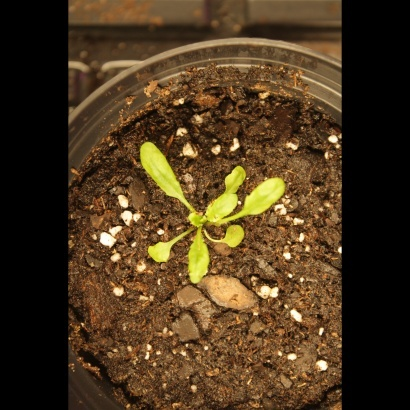leaf: (130, 139, 189, 206), (244, 175, 294, 216), (137, 236, 179, 269), (201, 190, 243, 223), (183, 241, 212, 285), (219, 223, 250, 251), (222, 162, 249, 193)
